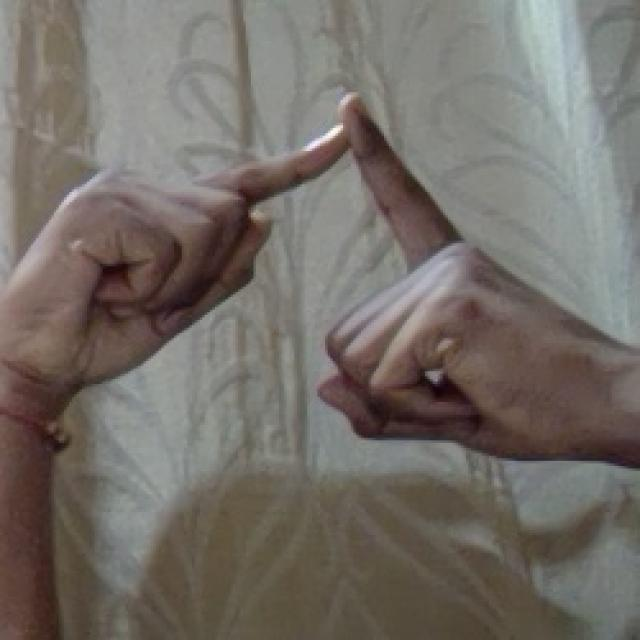Alphabet-E: (1, 95, 640, 640)
